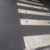zebra: (17, 1, 49, 49)
